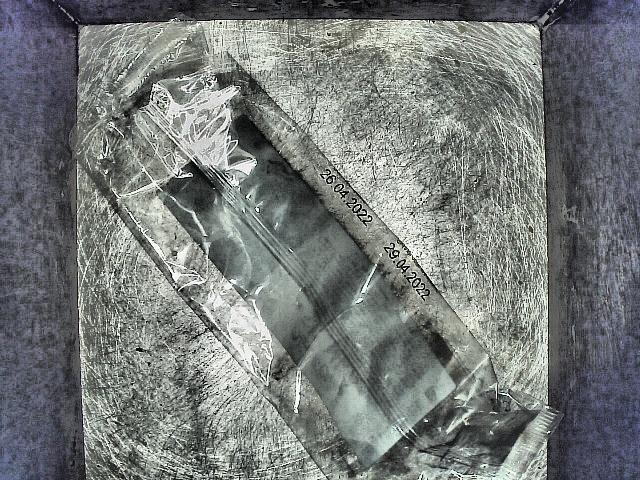Plastic: (80, 37, 540, 480)
